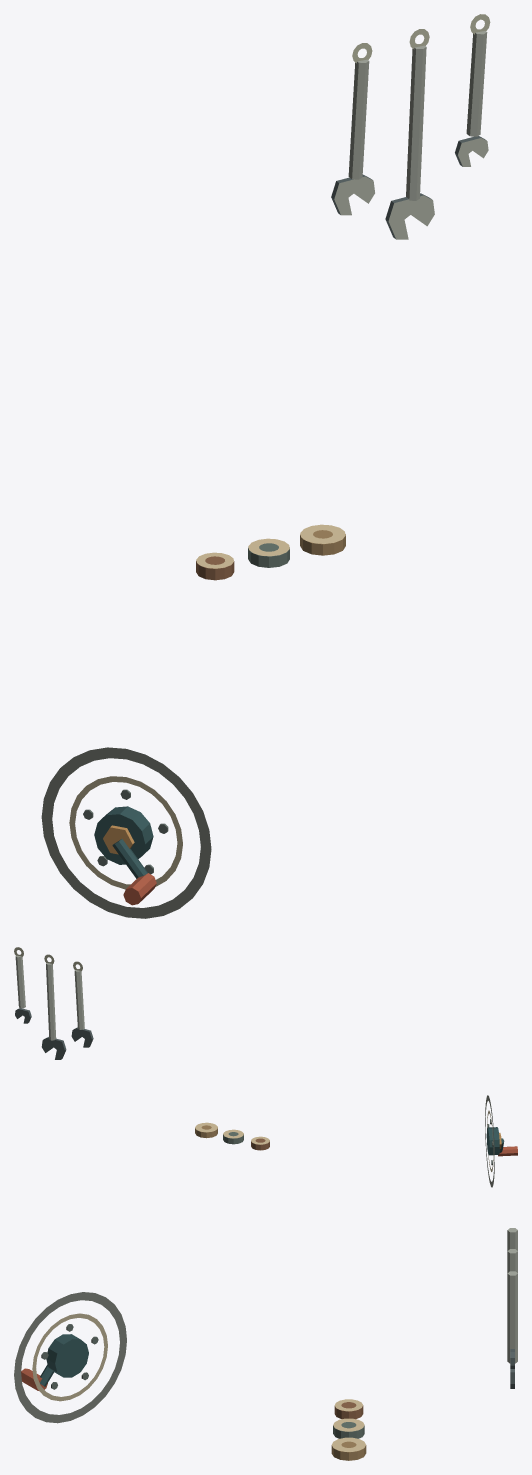
The model's file is BenchServiceHardware.gltf.
The picture shows the model from 3 angles, top to bottom: view 1: azimuth 30°, elevation 25°; view 2: azimuth 150°, elevation 25°; view 3: azimuth 270°, elevation 25°; orthographic projection. The views are drawn at different scales.
Parts seen in each view (by area): view 1: BenchServiceHardware; view 2: BenchServiceHardware; view 3: BenchServiceHardware.
Boxes of the visible parts, x1,y1,x2,y2 form: BenchServiceHardware: (41, 14, 490, 918); BenchServiceHardware: (14, 947, 517, 1187); BenchServiceHardware: (14, 1228, 517, 1460).
Size of the model in its own units: 2.09 by 1.5 by 1.72.
